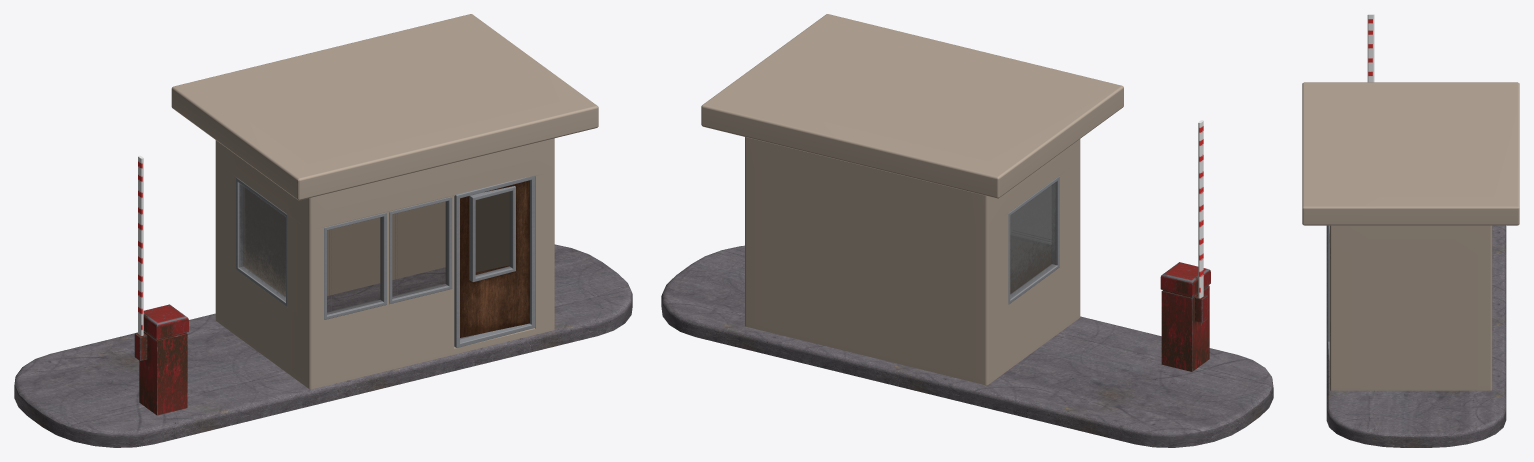
Rendered from booth.glb.
The picture shows the model from 3 angles, left to right: view 1: azimuth 30°, elevation 25°; view 2: azimuth 150°, elevation 25°; view 3: azimuth 270°, elevation 25°; orthographic projection. The views are drawn at different scales.
Visible parts, largest first — view 1: pCube32, pCube24, pCube25, pCube19, pCube21, pCube26, pCube36, pCube23, pCube20, pCube6, pCube31, pCube34 (+3 smaller); view 2: pCube32, pCube24, pCube25, pCube26, pCube23, pCube35, pCube28; view 3: pCube24, pCube32, pCube25, pCube28, pCube6.
Boxes of the visible parts, box(x1,y1,x2,y2) form: pCube32: box(215, 138, 554, 389); pCube24: box(171, 14, 598, 200); pCube25: box(14, 244, 632, 447); pCube19: box(460, 180, 529, 337); pCube21: box(392, 201, 447, 298); pCube26: box(139, 304, 188, 415); pCube36: box(327, 217, 381, 314); pCube23: box(239, 183, 285, 300); pCube20: box(476, 191, 511, 275); pCube6: box(454, 176, 535, 347); pCube31: box(389, 196, 452, 304); pCube34: box(469, 186, 515, 282); pCube32: box(745, 137, 1080, 385); pCube24: box(701, 14, 1123, 198); pCube25: box(661, 245, 1273, 447); pCube26: box(1160, 262, 1210, 371); pCube23: box(1010, 182, 1056, 297); pCube35: box(1008, 176, 1059, 304); pCube28: box(1198, 120, 1203, 298); pCube24: box(1302, 82, 1519, 225); pCube32: box(1329, 225, 1492, 390); pCube25: box(1326, 225, 1506, 447); pCube28: box(1367, 14, 1374, 82); pCube6: box(1327, 225, 1329, 370).
Size of the model in its own units: 9.73 by 4.28 by 3.73.
Materials: 4 (4 with a texture image).
